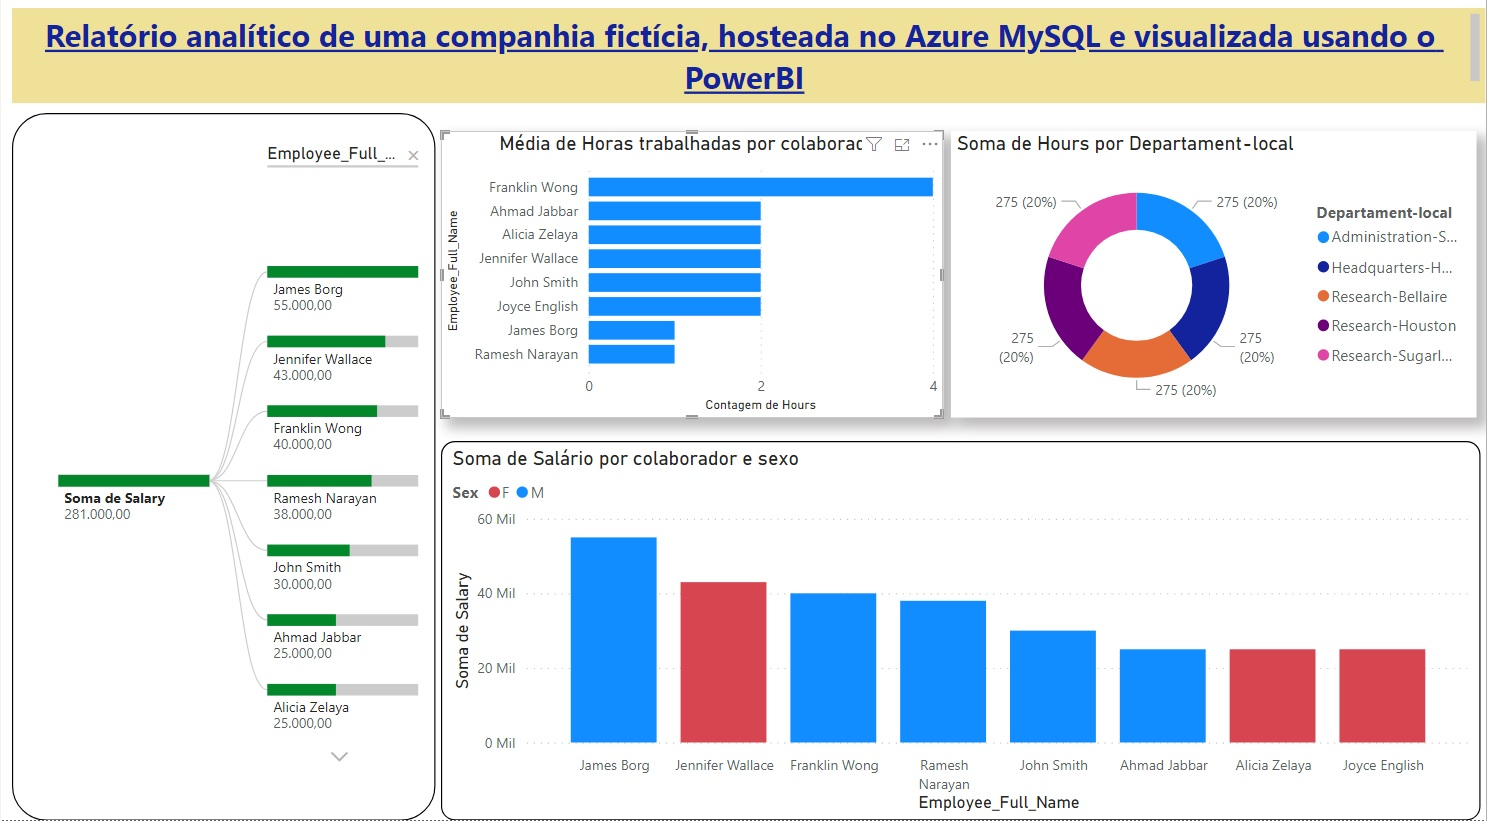

What the dashboard file says about the page in this screenshot:
{"tool":"powerbi","page":{"name":"Página 1","canvas":[1280,720],"ordinal":0},"visuals":[{"type":"textbox","box":[10,290,280,280],"z":0},{"type":"clusteredBarChart","title":"Média de Horas trabalhadas por colaborador","fields":{"Category":["azure_company employee.Employee_Full_Name"],"Y":["azure_company works_on.Hours"]},"box":[379.1,125.8,432.6,247.2],"z":1000},{"type":"donutChart","fields":{"Category":["azure_company dept_locations.Departament-local"],"Y":["azure_company works_on.Hours"]},"box":[818.9,125.8,452.8,247.2],"z":2000},{"type":"decompositionTreeVisual","fields":{"Analyze":["azure_company employee.Salary"],"ExplainBy":["azure_company employee.Employee_Full_Name"]},"box":[9.5,110.5,364.9,609.7],"z":3000},{"type":"lineStackedColumnComboChart","title":"Soma de Salário por colaborador e sexo","fields":{"Category":["azure_company employee.Employee_Full_Name"],"Series":["azure_company employee.Sex"],"Y":["azure_company employee.Salary"]},"box":[379.1,393.4,896.1,326.8],"z":4000},{"type":"textbox","box":[9.5,20.2,1270.5,82],"z":5000}]}

Visuals, with their boxes in screenshot pixels (x1, y1, x2, y2), scaled from the page's 1280x720 canvas onto the 1489x821 screenshot:
textbox: x1=12, y1=331, x2=337, y2=650
"Média de Horas trabalhadas por colaborador" clusteredBarChart: x1=441, y1=143, x2=944, y2=425
donutChart - azure_company dept_locations.Departament-local x azure_company works_on.Hours: x1=953, y1=143, x2=1479, y2=425
decompositionTreeVisual - azure_company employee.Salary x azure_company employee.Employee_Full_Name: x1=11, y1=126, x2=436, y2=820
"Soma de Salário por colaborador e sexo" lineStackedColumnComboChart: x1=441, y1=449, x2=1483, y2=820
textbox: x1=11, y1=23, x2=1488, y2=117
